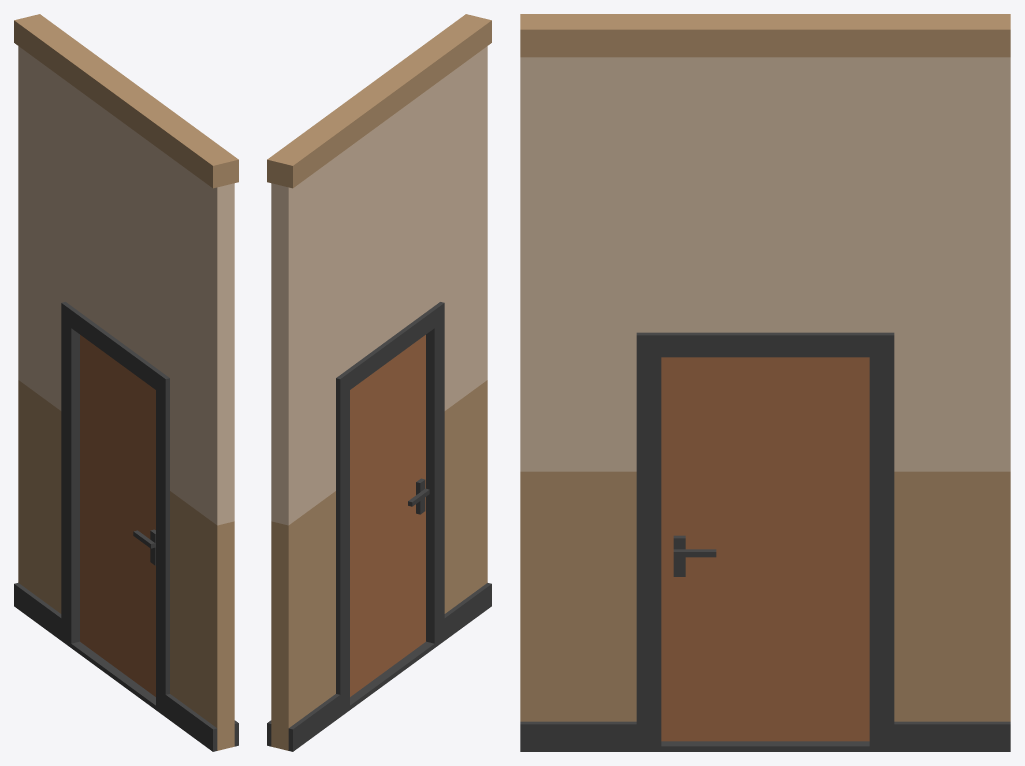
Rendered from wall_02_M_door.dae.
3 renders of one model, left to right at view 1: azimuth 30°, elevation 25°; view 2: azimuth 150°, elevation 25°; view 3: azimuth 270°, elevation 25°, orthographic. The views are drawn at different scales.
Parts seen in each view (by area): view 1: Untitled, Untitled.001; view 2: Untitled, Untitled.001; view 3: Untitled, Untitled.001.
Part boxes in pixels (left/top/right/bottom): Untitled: left=14, top=14, right=238, bottom=751; Untitled.001: left=80, top=335, right=155, bottom=696; Untitled: left=267, top=14, right=491, bottom=751; Untitled.001: left=350, top=335, right=429, bottom=696; Untitled: left=520, top=14, right=1010, bottom=751; Untitled.001: left=661, top=357, right=869, bottom=741.
Bounding box in the file's own units: 0.18 × 2.4 × 3.9.
2 materials, 2 textured.
